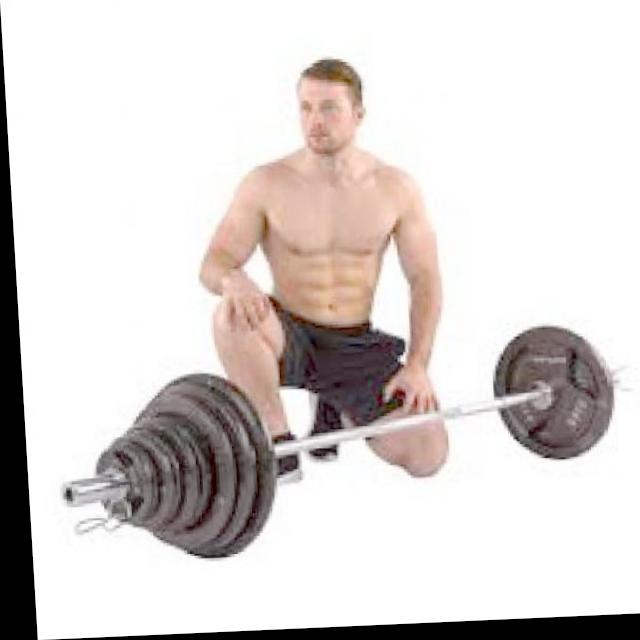barbell: (49, 370, 274, 574)
